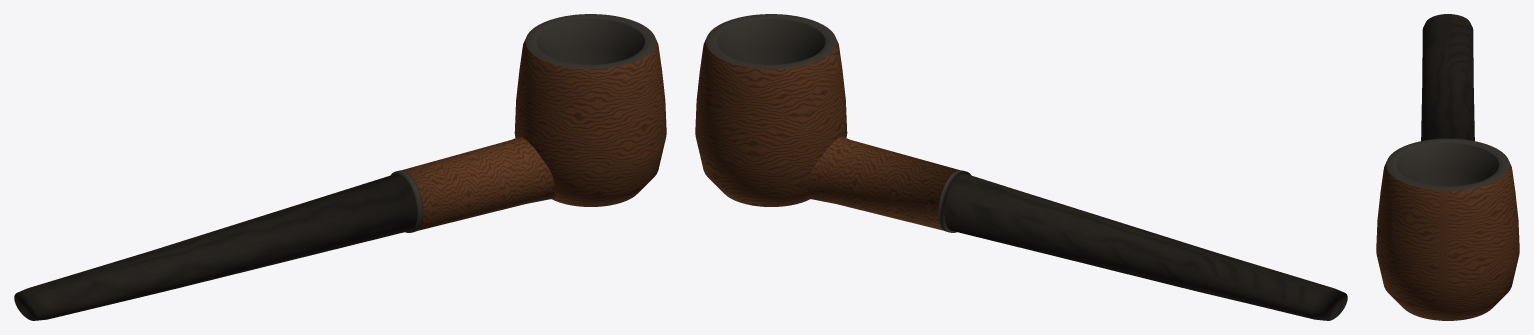
Rendered from pipe.glb.
3 views of the same model, side by side, from view 1: azimuth 30°, elevation 25°; view 2: azimuth 150°, elevation 25°; view 3: azimuth 270°, elevation 25° (orthographic). The views are drawn at different scales.
Visible parts, largest first — view 1: stem, bowl, shank, bowl_chamber, bowl_rim, joint; view 2: stem, bowl, shank, bowl_chamber, bowl_rim, joint; view 3: bowl, stem, bowl_chamber, bowl_rim.
Part boxes in pixels (<box>): stem: <box>14,173,417,320</box>; bowl: <box>514,39,666,206</box>; shank: <box>402,137,555,230</box>; bowl_chamber: <box>536,18,644,64</box>; bowl_rim: <box>525,14,655,69</box>; joint: <box>390,170,423,232</box>; stem: <box>944,173,1347,320</box>; bowl: <box>695,39,847,206</box>; shank: <box>806,137,959,230</box>; bowl_chamber: <box>717,18,825,64</box>; bowl_rim: <box>706,14,836,69</box>; joint: <box>938,170,971,232</box>; bowl: <box>1376,162,1519,320</box>; stem: <box>1421,14,1474,140</box>; bowl_chamber: <box>1396,143,1499,186</box>; bowl_rim: <box>1386,138,1509,190</box>.
Size of the model in its own units: 0.158 by 0.0364 by 0.033.
Materials: 3 (2 with a texture image).
